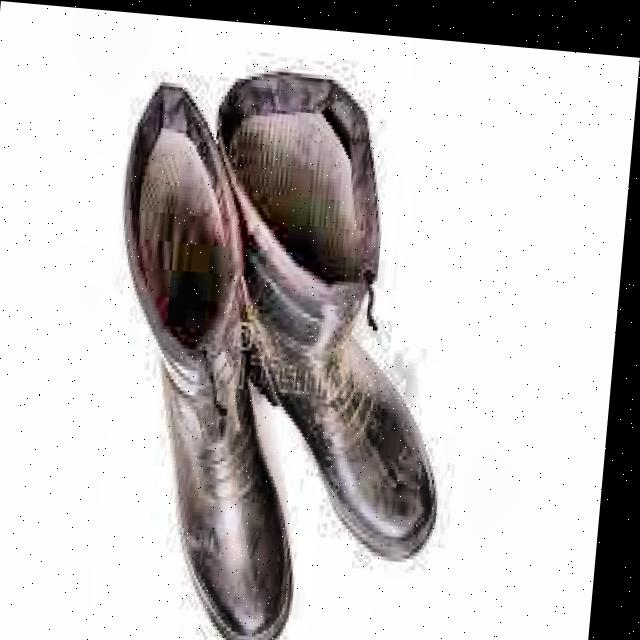shoes: (74, 39, 521, 640)
